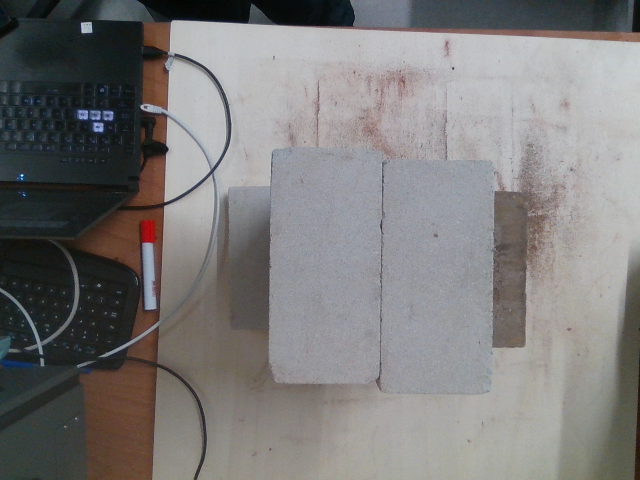brick: (385, 163, 491, 396), (273, 150, 378, 383)
